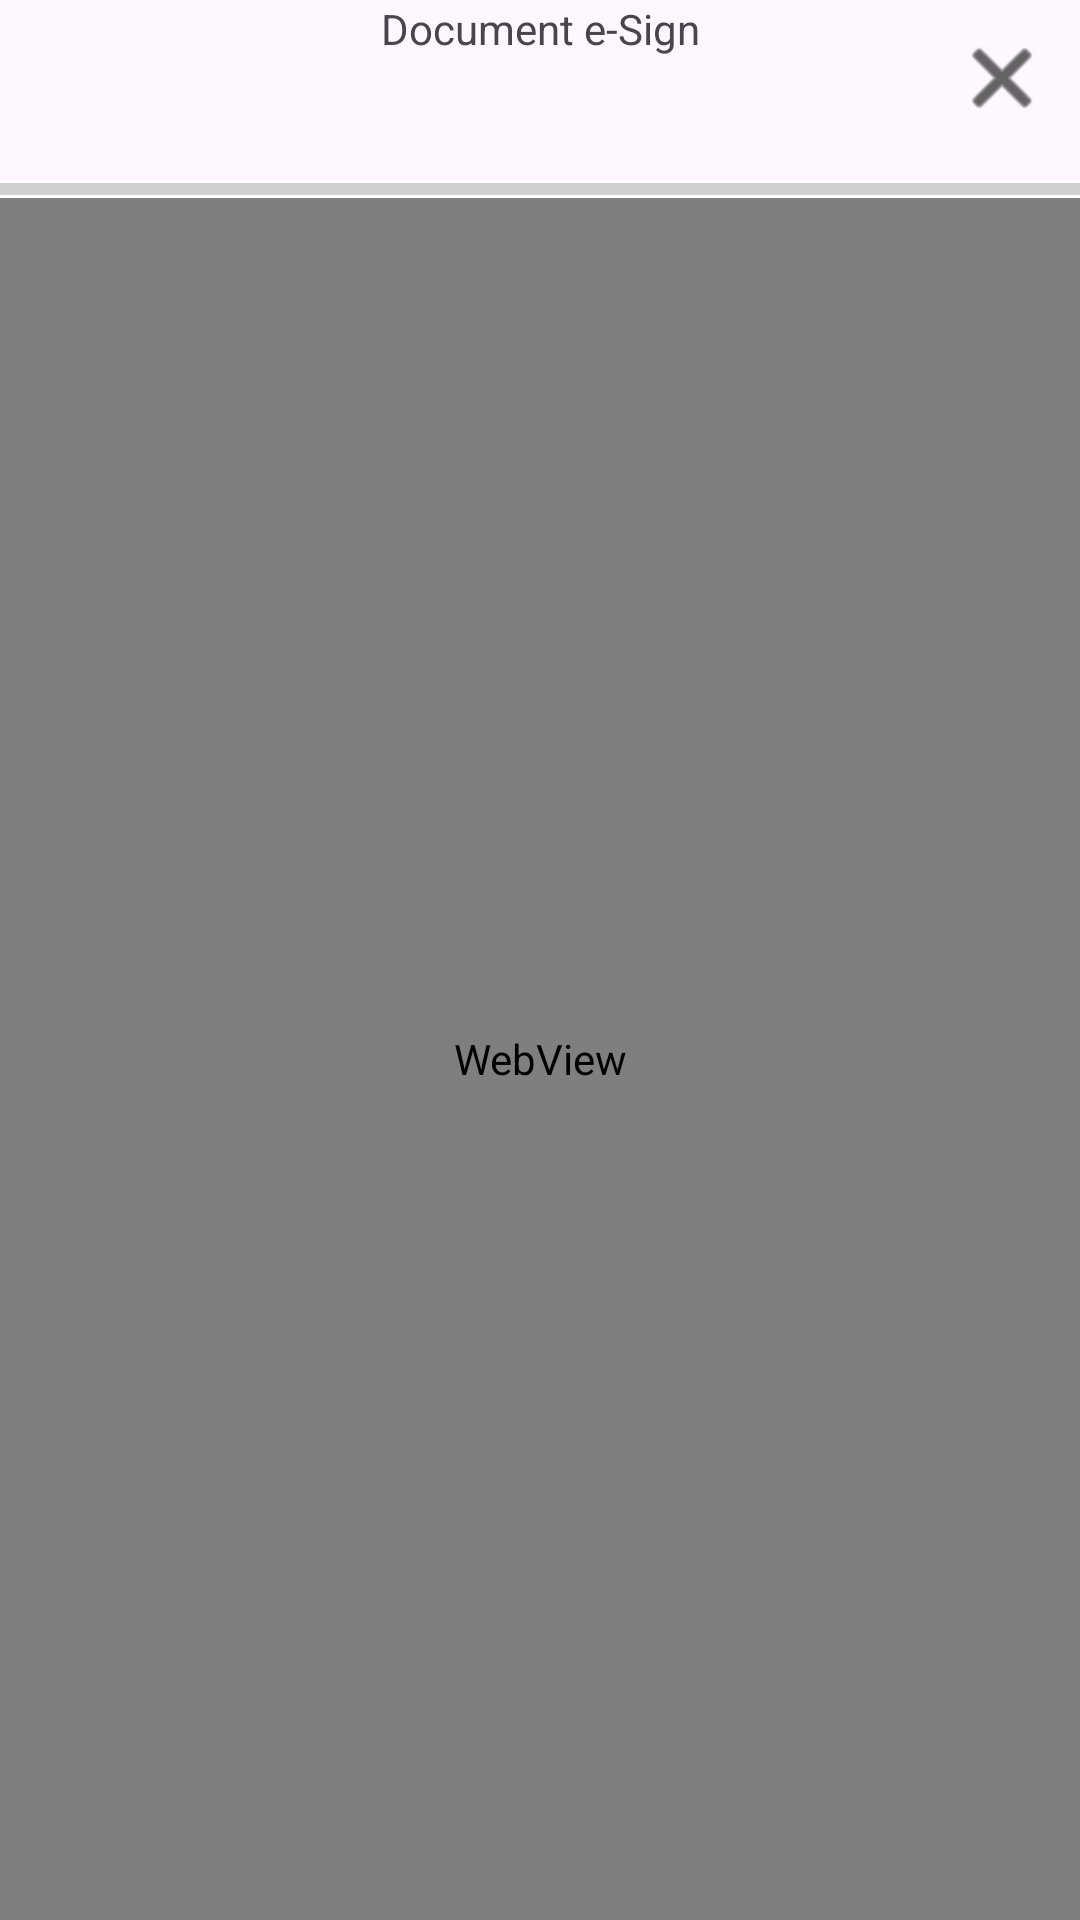

Screen size 1080 × 1920. Icon name, then its box in pixels as (x1, y1, x2, y2):
close clear cancel: (972, 48, 1032, 108)
